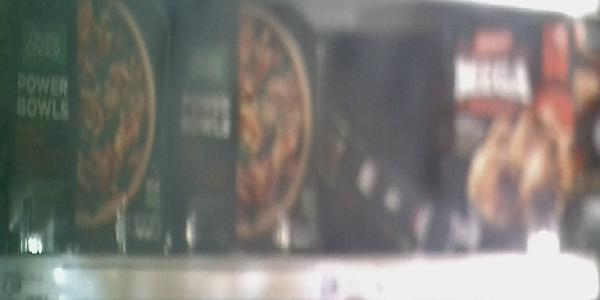pizza1: (5, 1, 168, 257), (167, 5, 323, 249), (444, 1, 584, 252)
